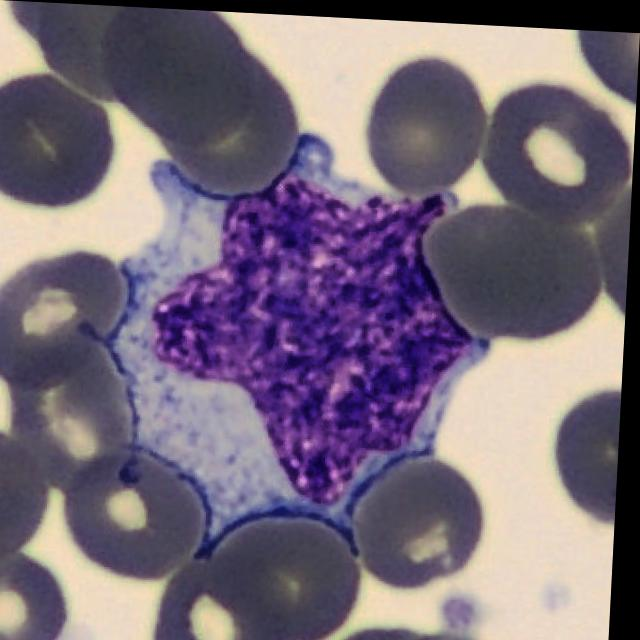Linfocito atipico: (121, 132, 477, 557)
